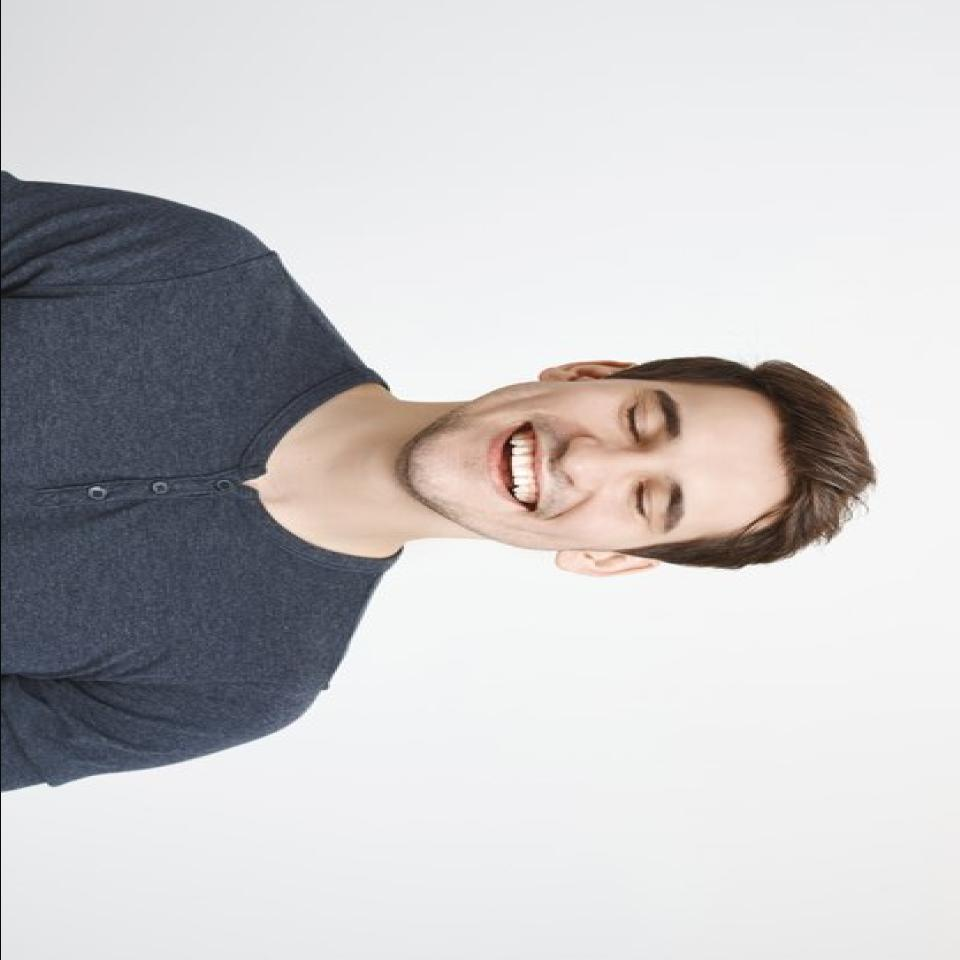Happiness: (409, 379, 773, 553)
